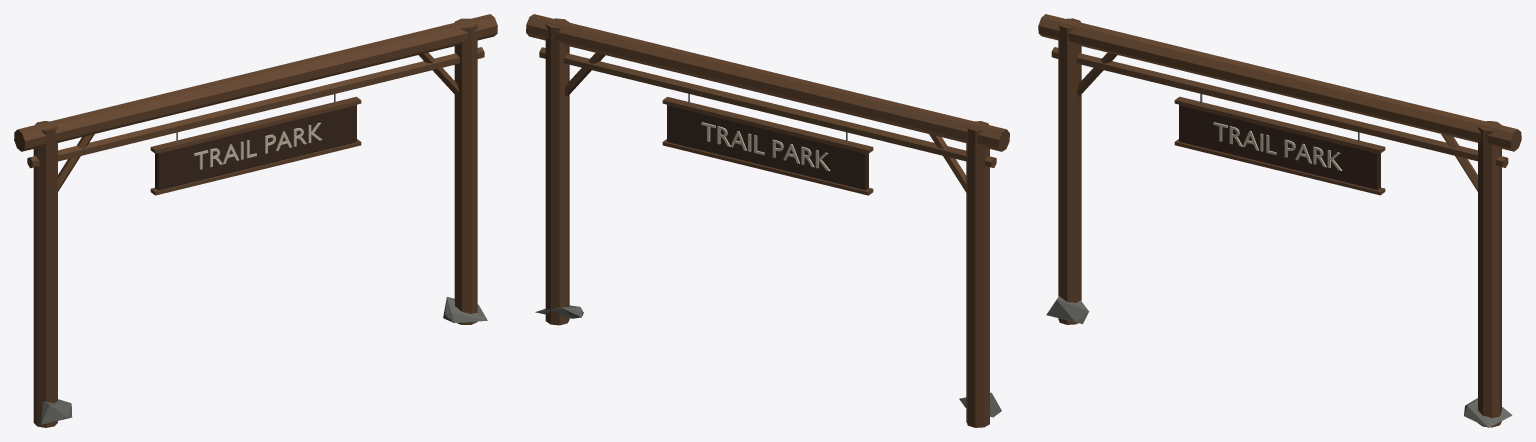
File: gate_arch.glb
The picture shows the model from 3 angles, left to right: view 1: azimuth 30°, elevation 25°; view 2: azimuth 150°, elevation 25°; view 3: azimuth 330°, elevation 25°; orthographic projection.
Parts seen in each view (by area): view 1: gate_arch; view 2: gate_arch; view 3: gate_arch.
Part boxes in pixels (x1,y1,x2,y2): gate_arch: [14, 14, 497, 427]; gate_arch: [526, 14, 1009, 427]; gate_arch: [1038, 14, 1521, 427].
Size of the model in its own units: 9 by 5.43 by 0.6328.
